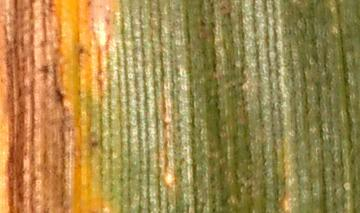tarspot: (90, 140, 100, 148), (78, 47, 84, 54)
